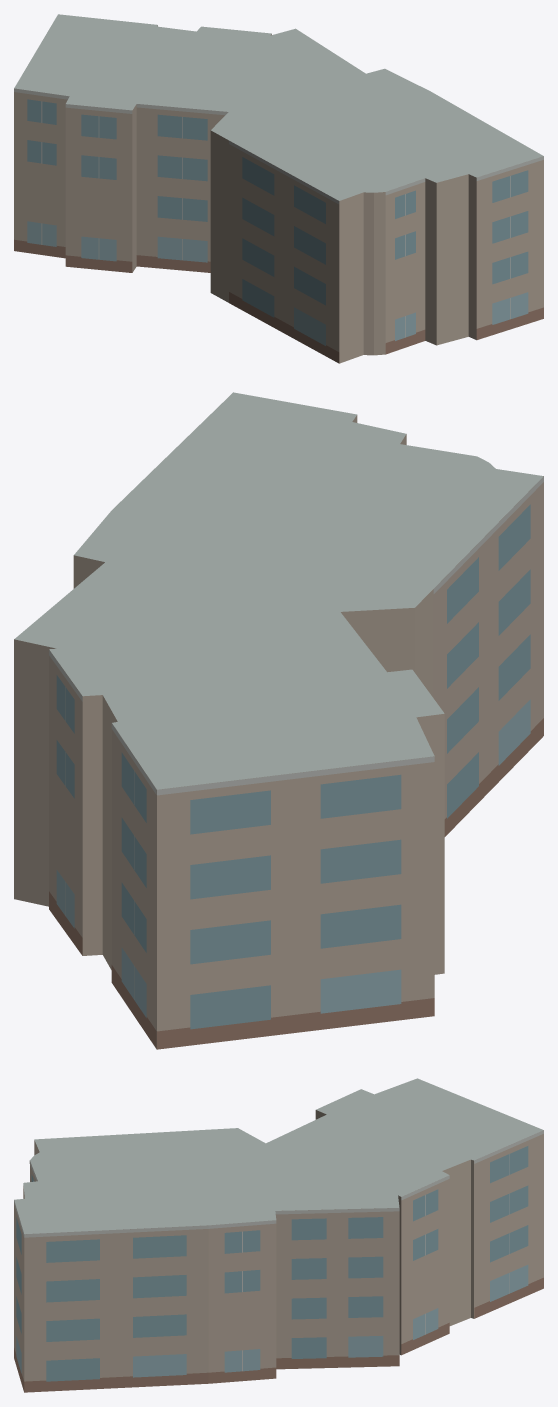
File: survey-upis-33028323.glb
3 views of the same model, one above another, from view 1: azimuth 30°, elevation 25°; view 2: azimuth 150°, elevation 25°; view 3: azimuth 270°, elevation 25° (orthographic). The views are drawn at different scales.
Visible parts, largest first — view 1: survey-upis-33028323.tmp; view 2: survey-upis-33028323.tmp; view 3: survey-upis-33028323.tmp.
Part boxes in pixels (x1,y1,x2,y2): survey-upis-33028323.tmp: [14, 14, 543, 363]; survey-upis-33028323.tmp: [14, 392, 543, 1049]; survey-upis-33028323.tmp: [14, 1078, 543, 1392].
Size of the model in its own units: 23.23 by 11 by 33.36.
